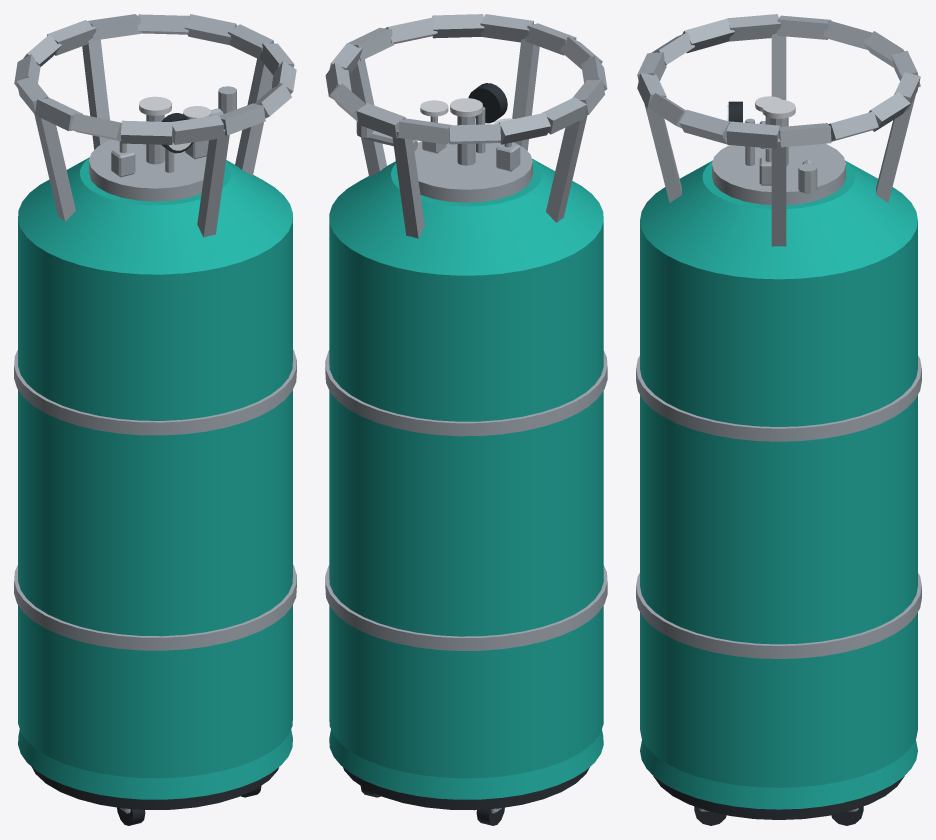
The model's file is dewar.glb.
3 renders of one model, left to right at view 1: azimuth 30°, elevation 25°; view 2: azimuth 150°, elevation 25°; view 3: azimuth 270°, elevation 25°, orthographic.
Parts seen in each view (by area): view 1: dewar; view 2: dewar; view 3: dewar.
Part boxes in pixels (left/top/right/bottom): dewar: left=14, top=14, right=296, bottom=825; dewar: left=325, top=14, right=607, bottom=825; dewar: left=636, top=14, right=921, bottom=825.
Size of the model in its own units: 0.596 by 1.66 by 0.596.
